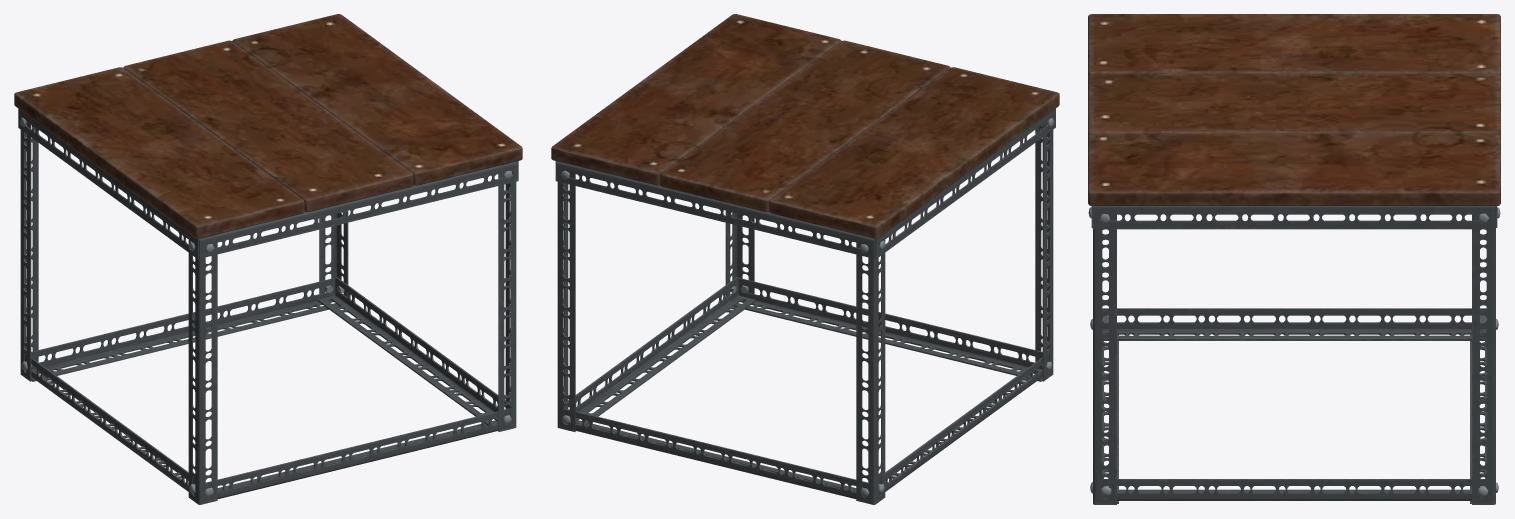
Rendered from industrial_coffee_table.glb.
3 views of the same model, side by side, from view 1: azimuth 30°, elevation 25°; view 2: azimuth 150°, elevation 25°; view 3: azimuth 270°, elevation 25° (orthographic). The views are drawn at different scales.
Visible parts, largest first — view 1: industrial_coffee_table; view 2: industrial_coffee_table; view 3: industrial_coffee_table.
Boxes of the visible parts, x1,y1,x2,y2 form: industrial_coffee_table: (14, 14, 522, 504); industrial_coffee_table: (551, 14, 1059, 504); industrial_coffee_table: (1088, 14, 1500, 504).
Bounding box in the file's own units: 0.7783 × 0.6384 × 0.7579.
1 material, 1 textured.
